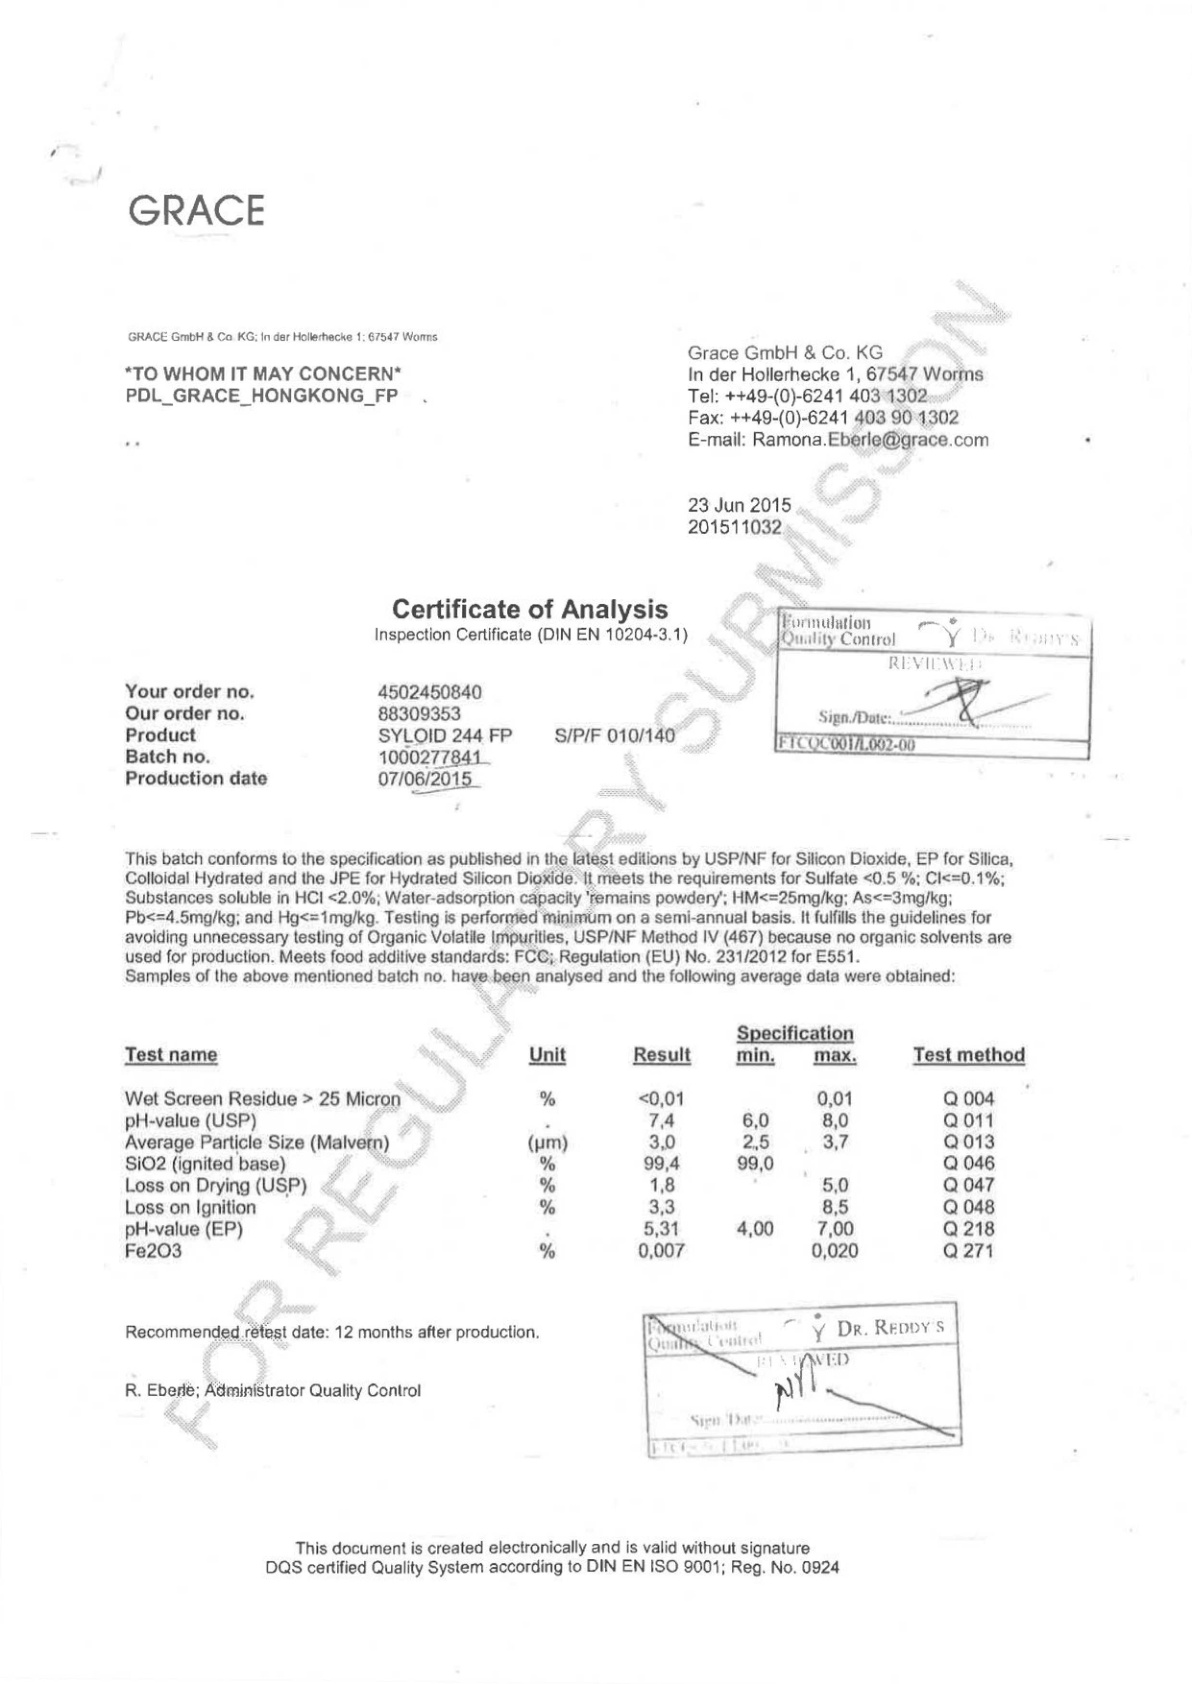nolines: (124, 1024, 1027, 1262), (120, 678, 679, 792)
